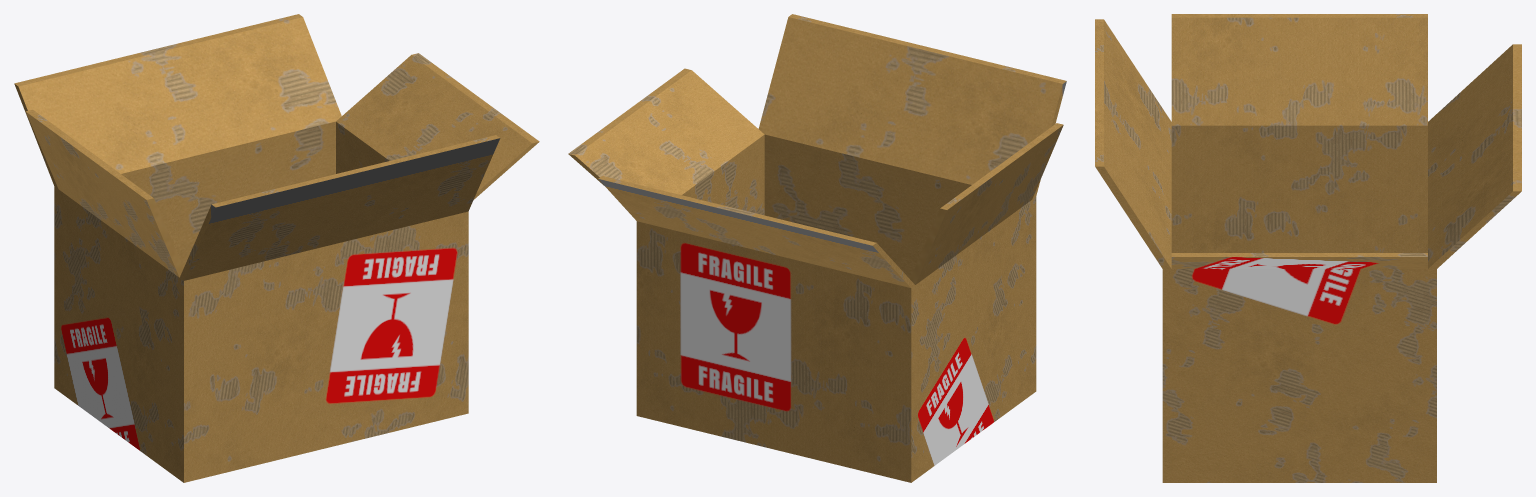
File: cardboard.fbx
The picture shows the model from 3 angles, left to right: view 1: azimuth 30°, elevation 25°; view 2: azimuth 150°, elevation 25°; view 3: azimuth 270°, elevation 25°; orthographic projection. The views are drawn at different scales.
Visible parts, largest first — view 1: pCube71; view 2: pCube71; view 3: pCube71.
Boxes of the visible parts, <box> form: pCube71: <box>14,14,539,482</box>; pCube71: <box>568,14,1066,482</box>; pCube71: <box>1095,14,1521,482</box>.
Bounding box in the file's own units: 1.07 × 0.7777 × 0.9509.
